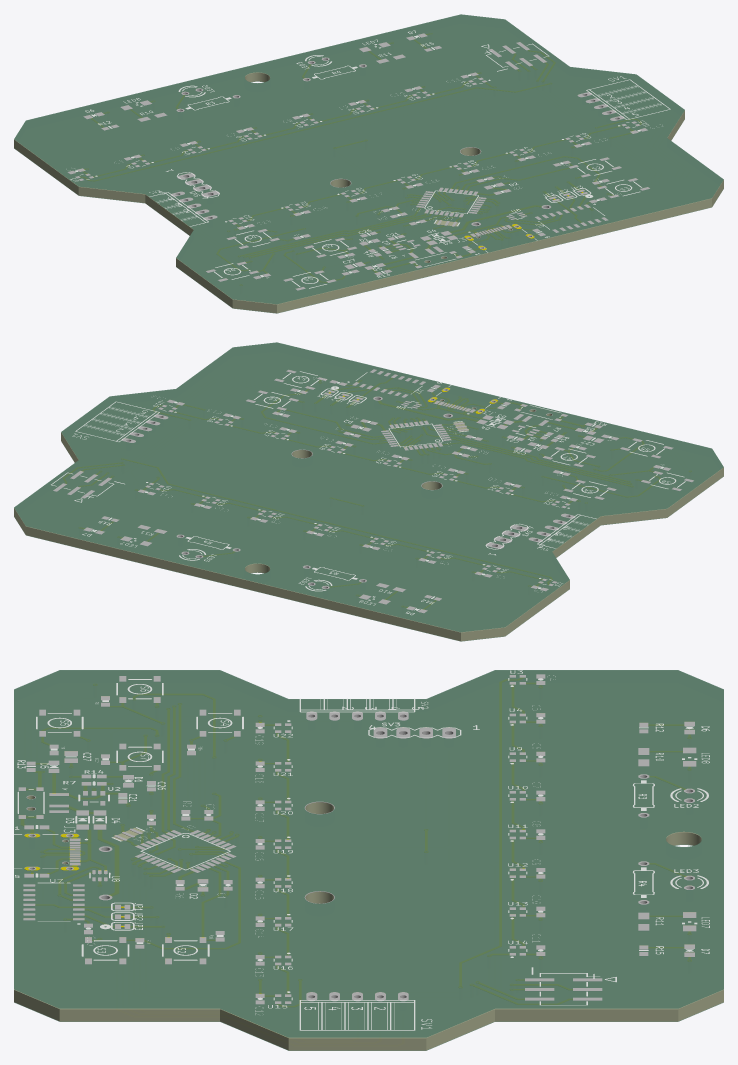
Rendered from northsec-2023-badge.glb.
3 views of the same model, one above another, from view 1: azimuth 30°, elevation 25°; view 2: azimuth 150°, elevation 25°; view 3: azimuth 270°, elevation 25° (orthographic). The views are drawn at different scales.
Parts seen in each view (by area): view 1: =>[0:1:1:7], =>[0:1:1:9], =>[0:1:1:2], =>[0:1:1:5]; view 2: =>[0:1:1:7], =>[0:1:1:9], =>[0:1:1:2], =>[0:1:1:5]; view 3: =>[0:1:1:7], =>[0:1:1:9], =>[0:1:1:2], =>[0:1:1:5].
Part boxes in pixels (x1,y1,x2,y2): =>[0:1:1:7]: [14, 14, 723, 313]; =>[0:1:1:9]: [14, 15, 723, 313]; =>[0:1:1:2]: [67, 33, 649, 290]; =>[0:1:1:5]: [66, 30, 670, 288]; =>[0:1:1:7]: [14, 342, 723, 641]; =>[0:1:1:9]: [14, 343, 723, 641]; =>[0:1:1:2]: [53, 369, 693, 613]; =>[0:1:1:5]: [51, 371, 685, 615]; =>[0:1:1:7]: [14, 670, 723, 1050]; =>[0:1:1:9]: [14, 671, 723, 1050]; =>[0:1:1:2]: [18, 674, 696, 1006]; =>[0:1:1:5]: [14, 670, 709, 1030].
Size of the model in its own units: 0.0965 by 0.00166 by 0.0787.
Materials: 4 (4 with a texture image).
